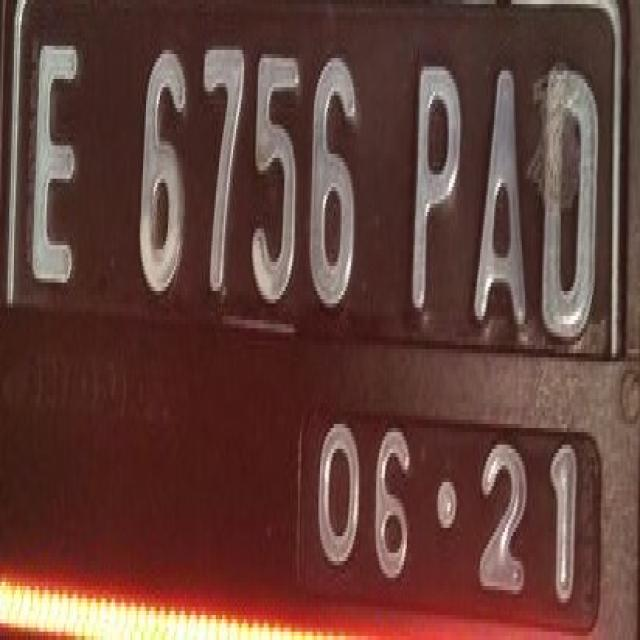plate: (6, 0, 624, 623)
